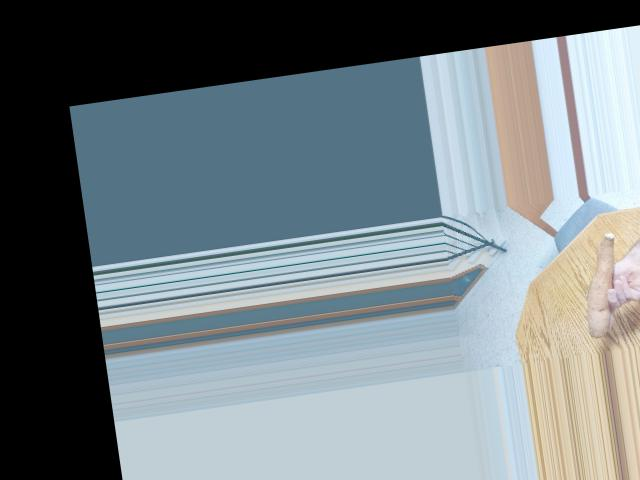sweet_potato: (571, 230, 632, 338)
